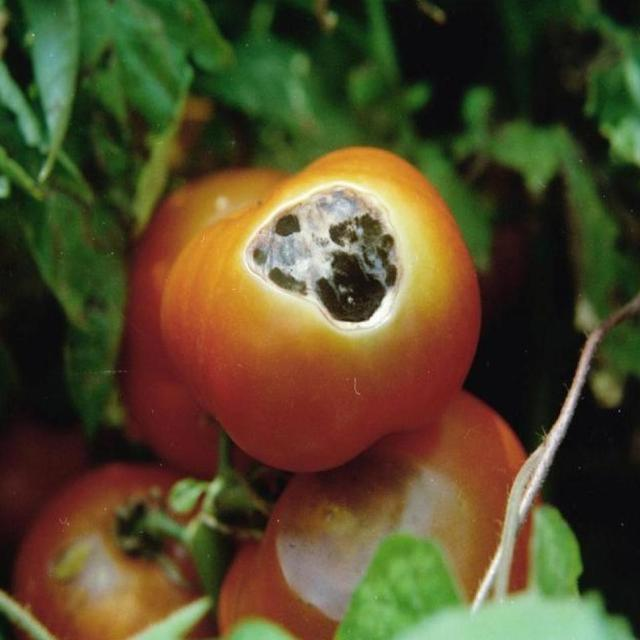Blossom End Rot Fruit: (149, 112, 277, 239)
